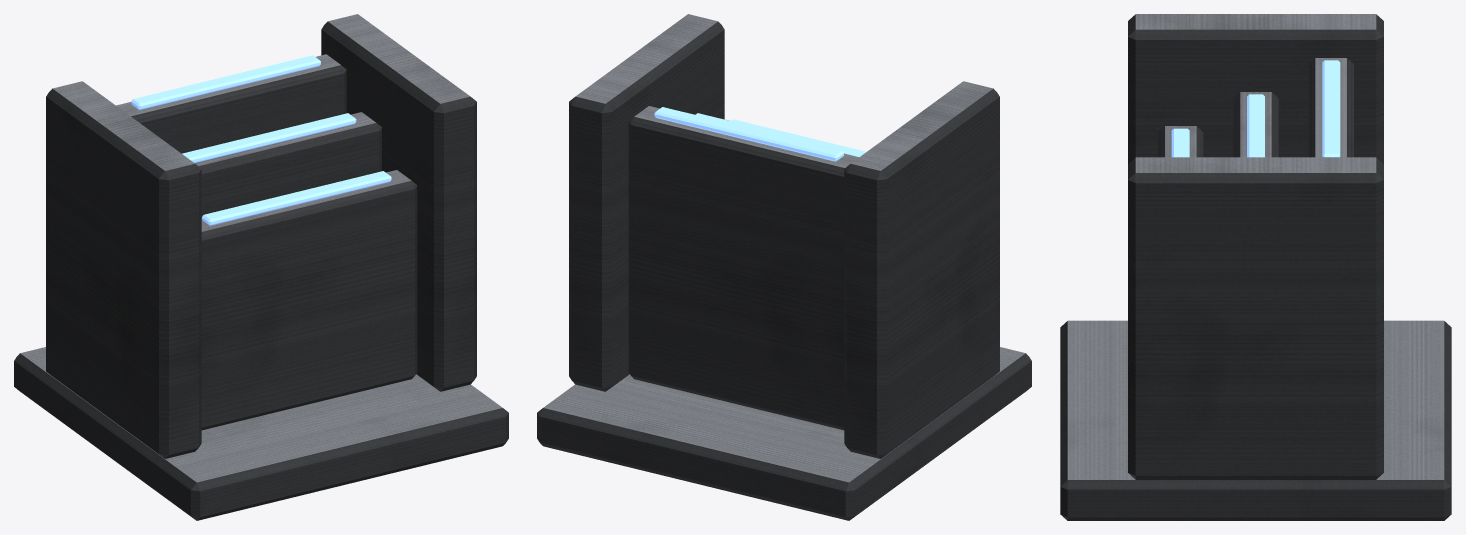
File: R4X_WallDeployer_LOD1.glb
3 views of the same model, side by side, from view 1: azimuth 30°, elevation 25°; view 2: azimuth 150°, elevation 25°; view 3: azimuth 270°, elevation 25° (orthographic). The views are drawn at different scales.
Visible parts, largest first — view 1: R4X_WallDeployer_LOD1; view 2: R4X_WallDeployer_LOD1; view 3: R4X_WallDeployer_LOD1.
Part boxes in pixels (bbox=[...]): R4X_WallDeployer_LOD1: bbox=[14, 14, 508, 520]; R4X_WallDeployer_LOD1: bbox=[537, 14, 1031, 520]; R4X_WallDeployer_LOD1: bbox=[1060, 14, 1451, 520].
Bounding box in the file's own units: 0.52 × 0.51 × 0.52.
3 materials, 2 textured.
